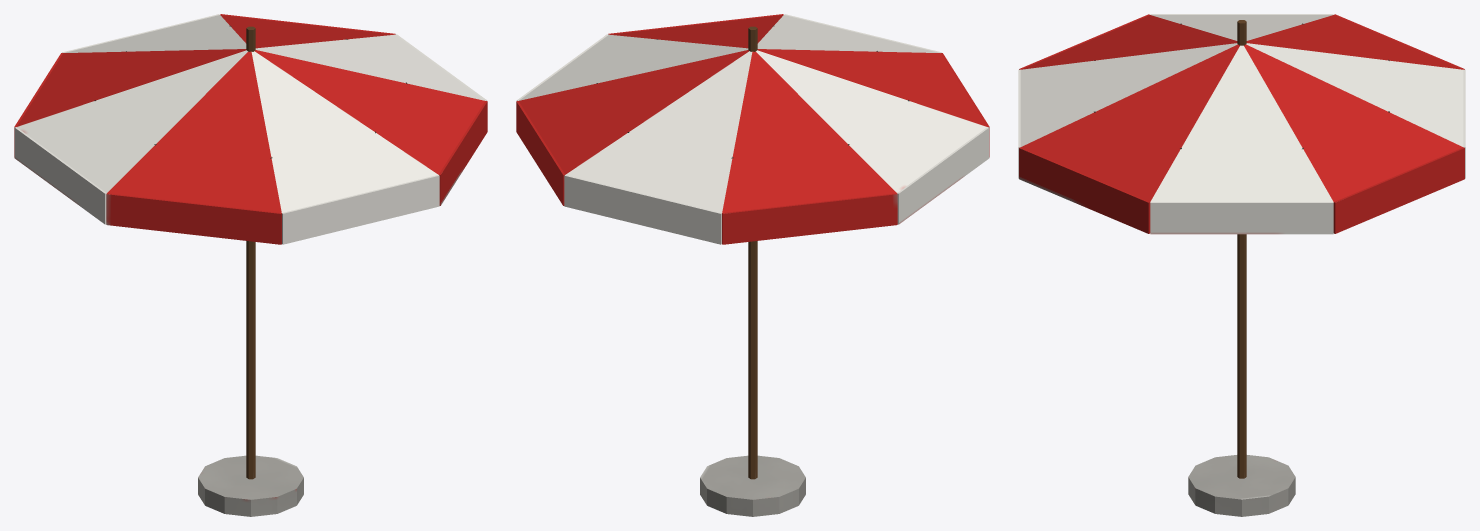
File: slunecnik_ddb389fc.glb
3 renders of one model, left to right at view 1: azimuth 30°, elevation 25°; view 2: azimuth 150°, elevation 25°; view 3: azimuth 270°, elevation 25°, orthographic.
Visible parts, largest first — view 1: dum; view 2: dum; view 3: dum.
Boxes of the visible parts, x1=… form: dum: x1=14, y1=14, x2=487, y2=516; dum: x1=516, y1=14, x2=989, y2=516; dum: x1=1018, y1=14, x2=1465, y2=516.
Size of the model in its own units: 2.33 by 2.71 by 2.33.
Materials: 1 (1 with a texture image).
